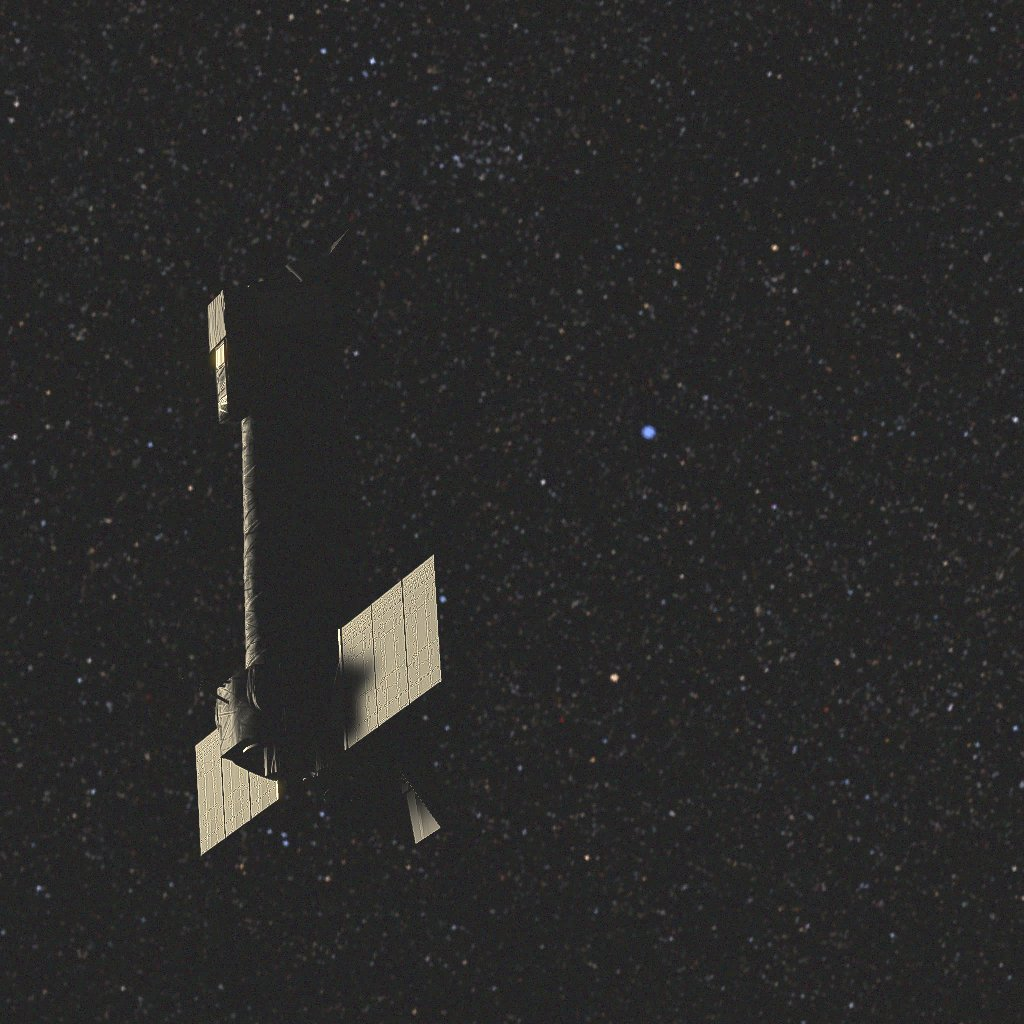xmm_newton: (182, 226, 444, 856)
